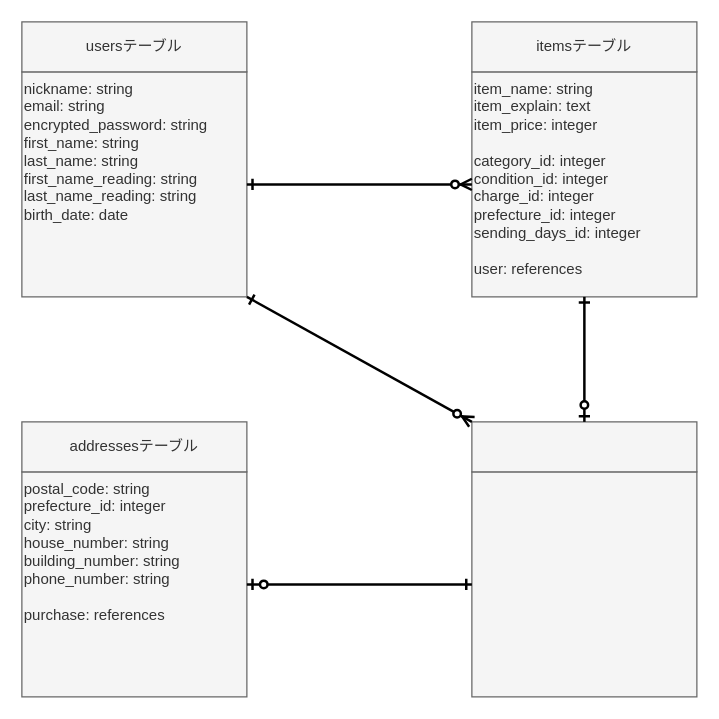
This 719x719 diagram has some shape labels left out. Here are the shapes that lost their labels. From the top down, the centre of each, then its label:
At point (584, 446): "purchasesテーブル".
At point (584, 584): "user: references item: references".
